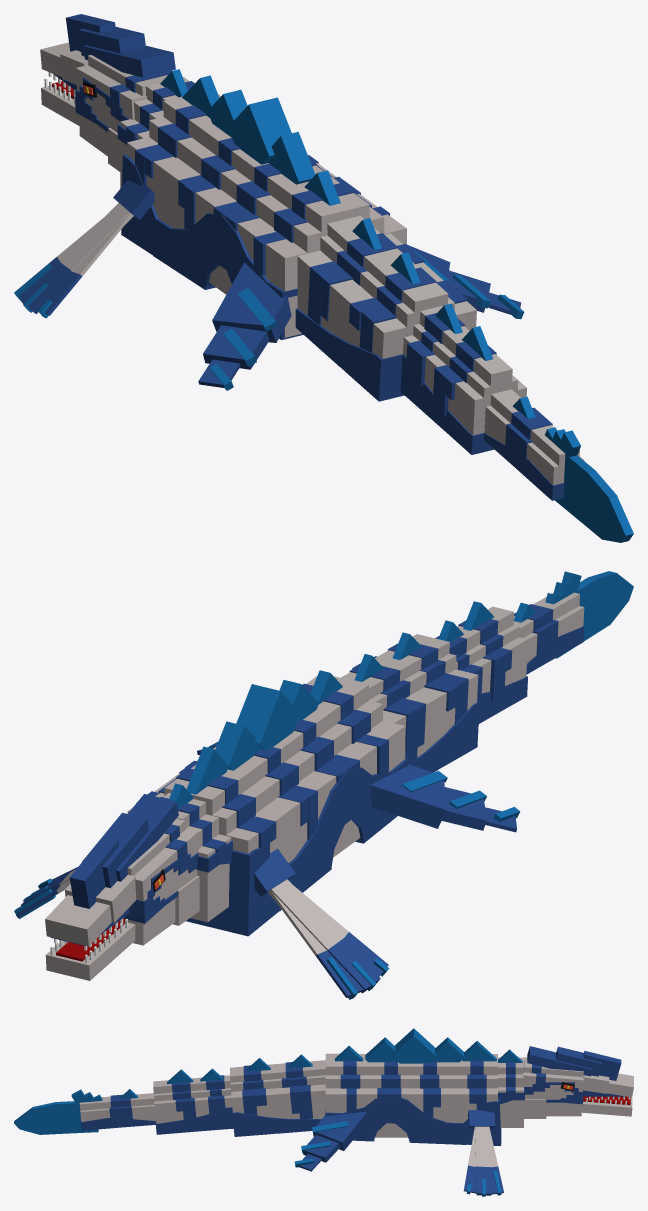
Rendered from mosasaur.obj.
3 views of the same model, one above another, from view 1: azimuth 30°, elevation 25°; view 2: azimuth 150°, elevation 25°; view 3: azimuth 270°, elevation 25° (orthographic). The views are drawn at different scales.
Visible parts, largest first — view 1: torso, tail01, tail02, head, tail03, arm_L_Lower, leg_L, neck, leg_L_Lower, mouth, leg_R_Lower, leg_L_Hand; view 2: torso, head, tail01, tail03, tail02, arm_L_Lower, neck, leg_L, mouth, leg_L_Lower, arm_R_Lower, leg_L_Hand; view 3: torso, tail01, head, tail03, tail02, arm_R_Lower, neck, leg_R, mouth, leg_R_Lower, leg_R_Hand.
Part boxes in pixels (box(x1,y1,x2,y2)): torso: box(121, 75, 406, 339); tail01: box(295, 215, 476, 401); tail02: box(400, 303, 526, 454); head: box(40, 14, 175, 171); tail03: box(484, 389, 633, 542); arm_L_Lower: box(14, 180, 154, 318); leg_L: box(212, 262, 291, 342); neck: box(117, 69, 194, 188); leg_L_Lower: box(203, 325, 269, 369); mouth: box(41, 78, 79, 125); leg_R_Lower: box(448, 270, 490, 312); leg_L_Hand: box(198, 359, 240, 390); torso: box(127, 670, 408, 936); head: box(45, 794, 199, 950); tail01: box(341, 632, 479, 772); tail03: box(513, 571, 633, 674); tail02: box(435, 601, 527, 723); arm_L_Lower: box(254, 848, 389, 999); neck: box(160, 783, 232, 922); leg_L: box(370, 764, 447, 828); mouth: box(45, 918, 135, 980); leg_L_Lower: box(442, 787, 486, 830); arm_R_Lower: box(14, 867, 77, 918); leg_L_Hand: box(485, 807, 520, 832); torso: box(325, 1028, 501, 1145); tail01: box(230, 1054, 325, 1136); head: box(523, 1046, 633, 1118); tail03: box(14, 1089, 155, 1134); tail02: box(153, 1068, 233, 1134); arm_R_Lower: box(463, 1110, 503, 1196); neck: box(498, 1049, 524, 1127); leg_R: box(312, 1111, 367, 1150); mouth: box(581, 1096, 632, 1116); leg_R_Lower: box(301, 1135, 339, 1162); leg_R_Hand: box(294, 1154, 321, 1171).
Size of the model in its own units: 14.42 by 8.44 by 40.08.
